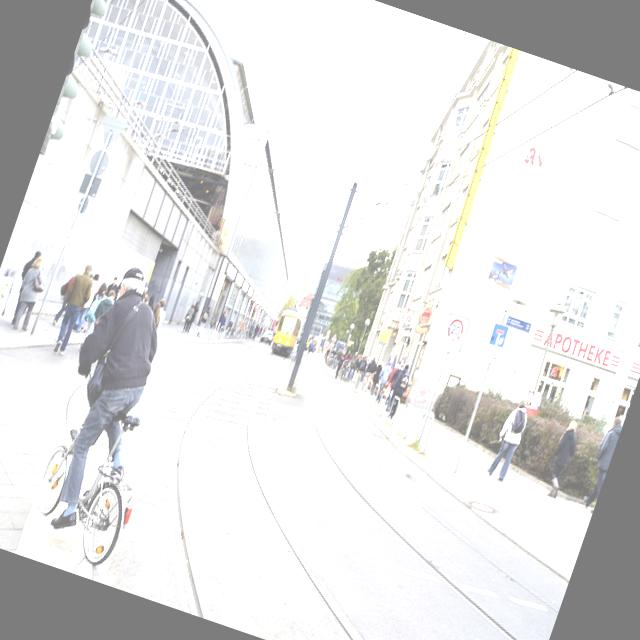Vehicle: (258, 327, 274, 346)
